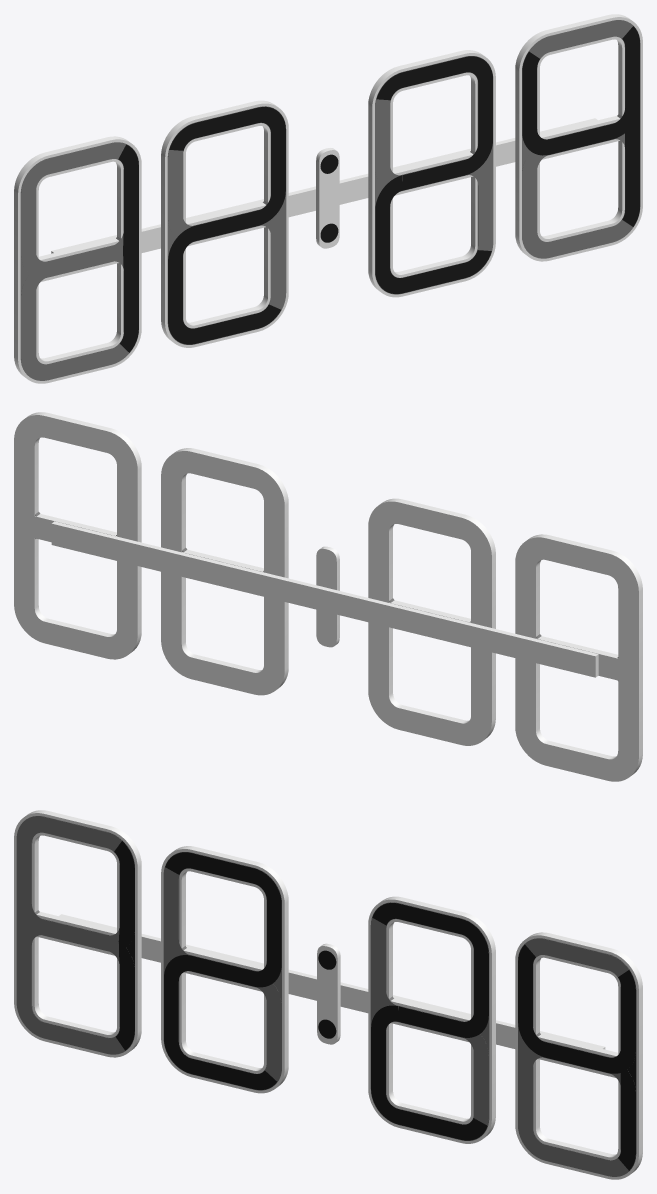
The model's file is wall_clock.FBX.
3 renders of one model, top to bottom at view 1: azimuth 30°, elevation 25°; view 2: azimuth 150°, elevation 25°; view 3: azimuth 330°, elevation 25°, orthographic.
Parts seen in each view (by area): view 1: wall_clock; view 2: wall_clock; view 3: wall_clock.
Boxes of the visible parts, x1,y1,x2,y2 form: wall_clock: (14,14,642,383); wall_clock: (14,412,642,781); wall_clock: (14,810,642,1179).
Size of the model in its own units: 237 by 82.36 by 4.69.
3 materials, 3 textured.
